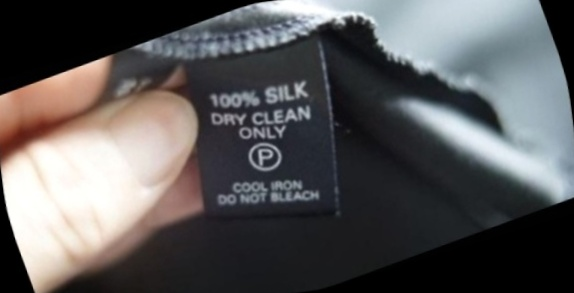dry_clean_any_solvent_except_trichloroethylene: (235, 125, 297, 186)
